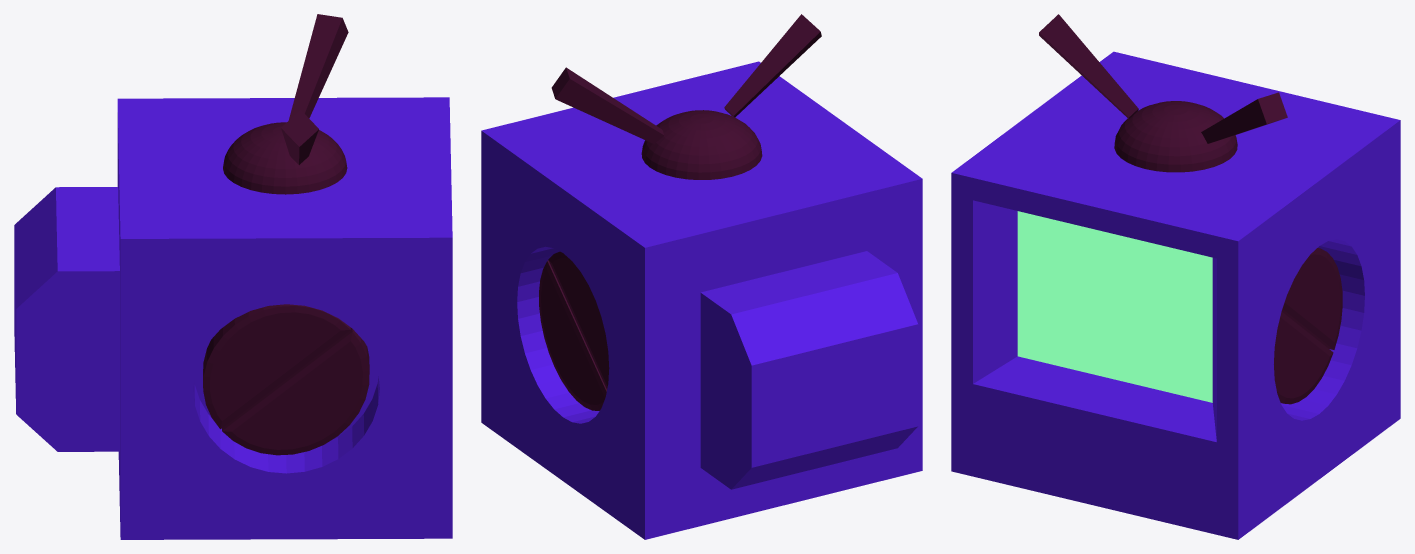
File: TestRotationAnimation.glb
The picture shows the model from 3 angles, left to right: view 1: azimuth 30°, elevation 25°; view 2: azimuth 150°, elevation 25°; view 3: azimuth 270°, elevation 25°; orthographic projection. The views are drawn at different scales.
Parts seen in each view (by area): view 1: Body; view 2: Body; view 3: Body.
Part boxes in pixels (bbox=[...]): Body: bbox=[14, 14, 452, 539]; Body: bbox=[481, 14, 922, 539]; Body: bbox=[951, 14, 1400, 539].
Size of the model in its own units: 12.29 by 10.98 by 10.9.
